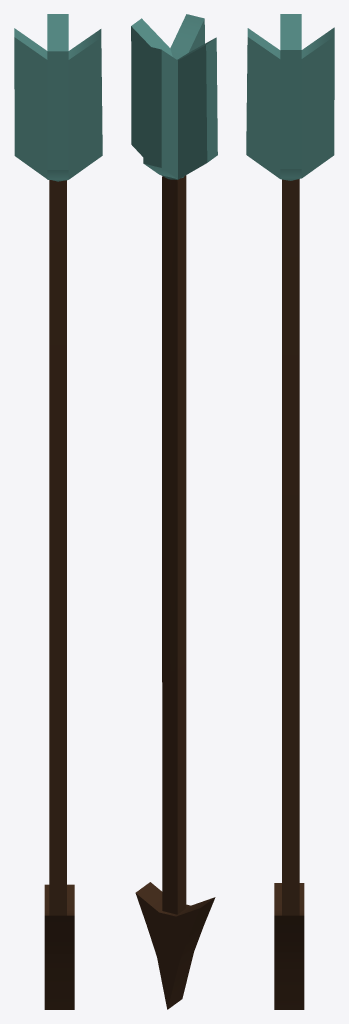
Rendered from Arrow.fbx.
3 renders of one model, left to right at view 1: azimuth 90°, elevation 25°; view 2: azimuth 150°, elevation 25°; view 3: azimuth 270°, elevation 25°, orthographic.
Visible parts, largest first — view 1: Cube.004; view 2: Cube.004; view 3: Cube.004.
Boxes of the visible parts, box(x1,y1,x2,y2) form: Cube.004: box(14, 14, 102, 1009); Cube.004: box(131, 14, 217, 1009); Cube.004: box(246, 14, 334, 1009).
Size of the model in its own units: 7.66 by 93.64 by 7.66.
